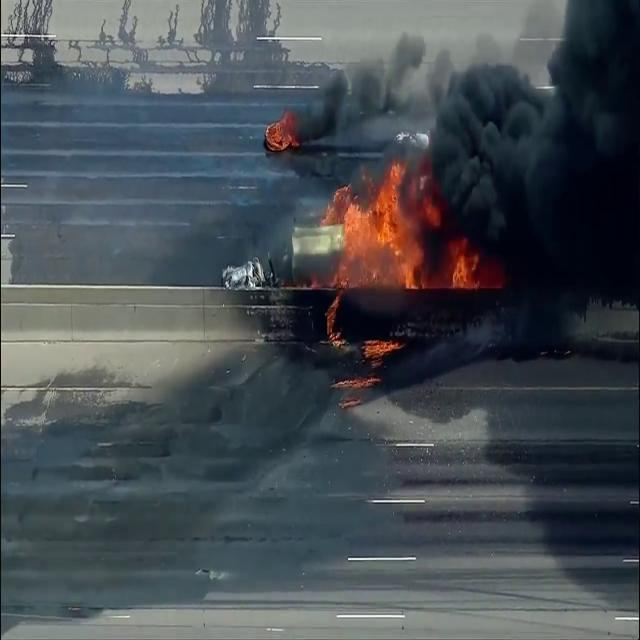Fire: (327, 165, 437, 287), (262, 106, 300, 154), (447, 247, 480, 295)
Smoke: (428, 1, 640, 347), (294, 15, 458, 180)
